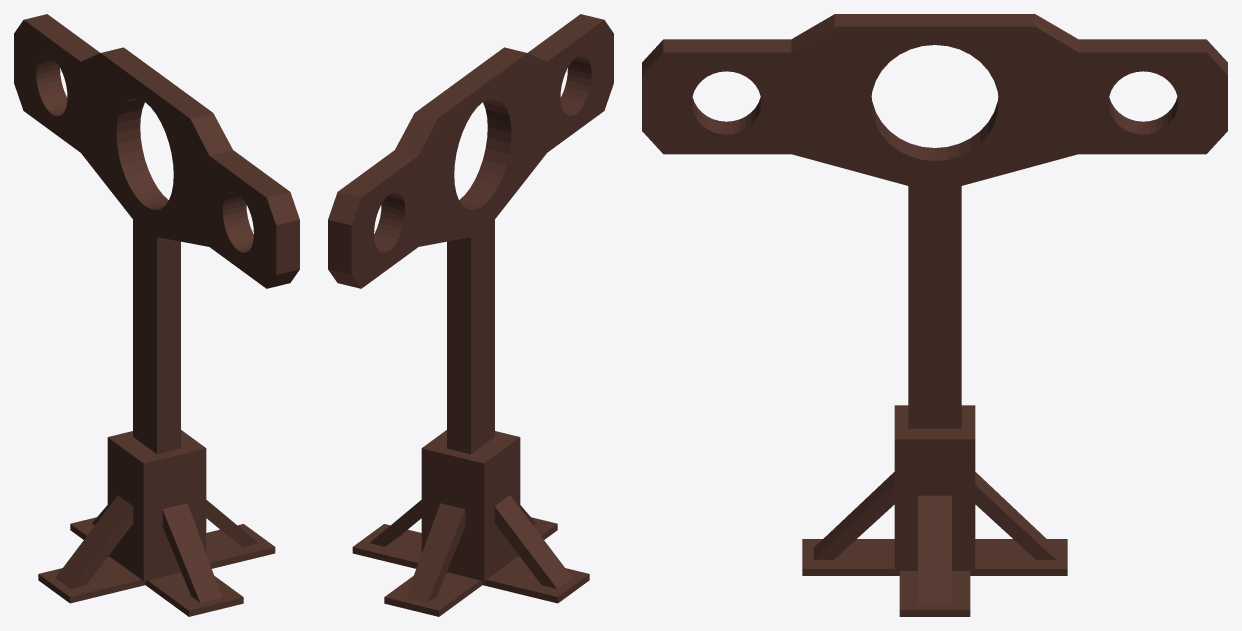
Rendered from pelourinho 1.fbx.
3 renders of one model, left to right at view 1: azimuth 30°, elevation 25°; view 2: azimuth 150°, elevation 25°; view 3: azimuth 270°, elevation 25°, orthographic. The views are drawn at different scales.
Visible parts, largest first — view 1: Cube.001; view 2: Cube.001; view 3: Cube.001.
Boxes of the visible parts, left/top/right/bottom form: Cube.001: left=14, top=14, right=299, bottom=616; Cube.001: left=328, top=14, right=613, bottom=616; Cube.001: left=642, top=14, right=1227, bottom=616.
Size of the model in its own units: 130 by 293 by 287.
